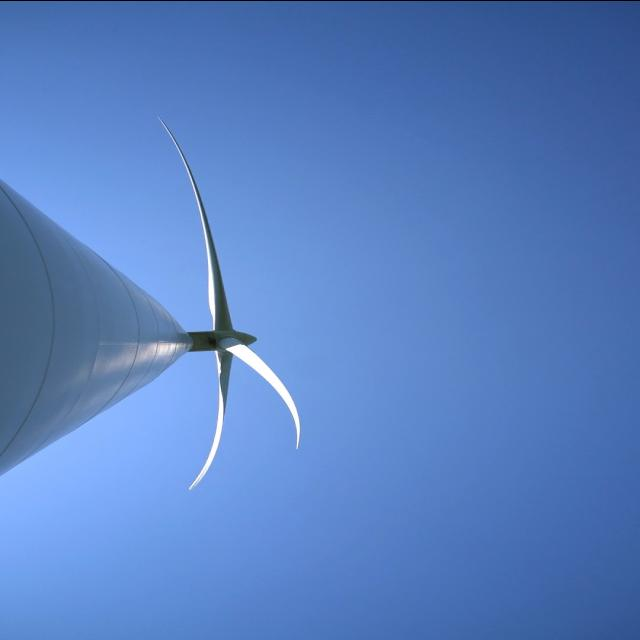blade 1: (156, 114, 238, 316)
blade 2: (171, 359, 235, 505)
blade 3: (255, 350, 309, 450)
